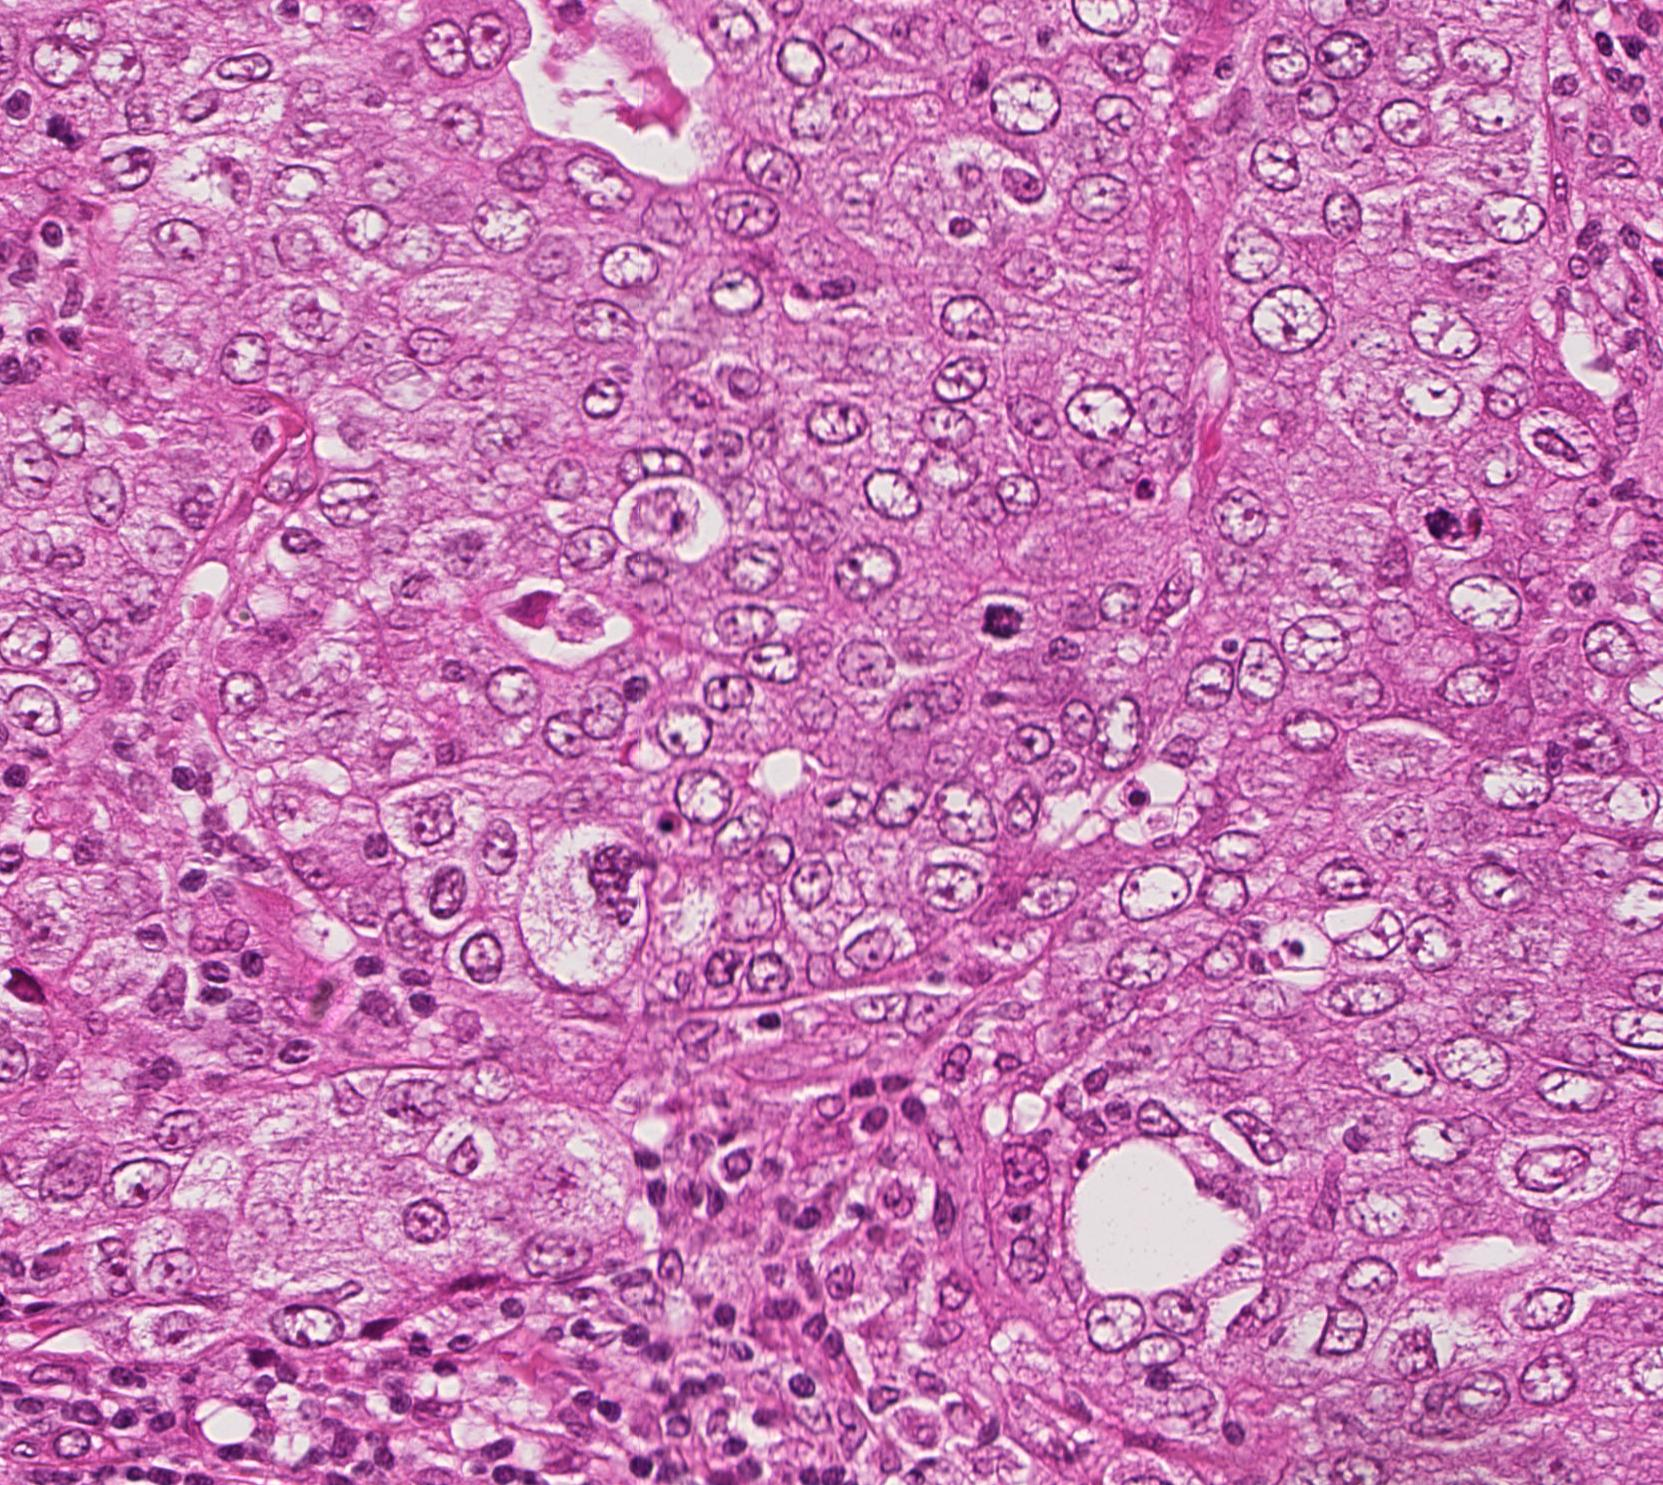mitosis: (962, 586, 1022, 646)
